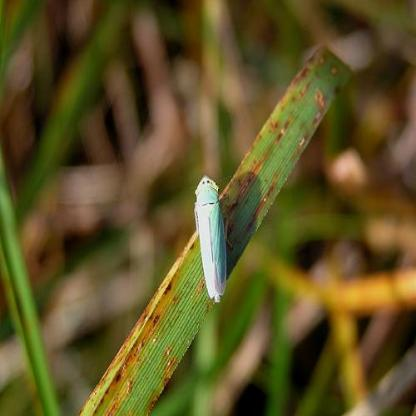Green-Leafhopper: (184, 171, 238, 303)
